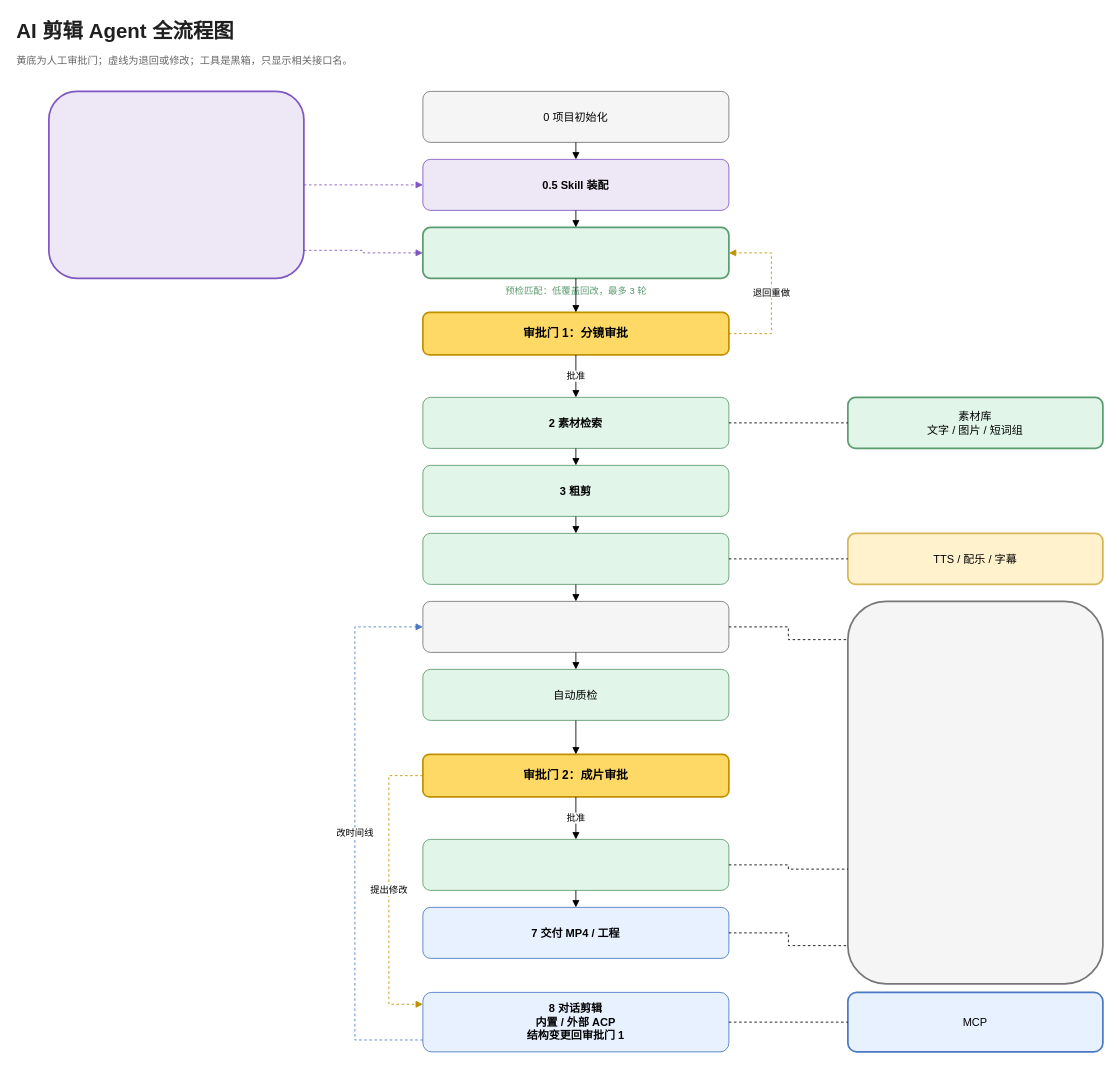
Image size: 1118x1067. Some labels were removed from this diagram. The centre of each missing label's shape, as x and y in pixels:
1 分镜规划 输入解析 + 分镜 + 预检匹配: the point at 575,252
4 精剪 / 音频 / 字幕: the point at 575,558
5 草稿渲染: the point at 575,626
6 最终渲染: the point at 575,864
Skill 管理服务 注册 / 路由 / 渐进加载 / 权限 / 版本: the point at 176,184
渲染 / 工程导出 preview / render / export: the point at 975,792
